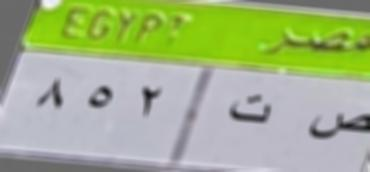2: (136, 78, 168, 123)
5: (82, 81, 119, 115)
8: (36, 73, 65, 120)
saad: (308, 106, 370, 150)
taa: (227, 88, 272, 130)
